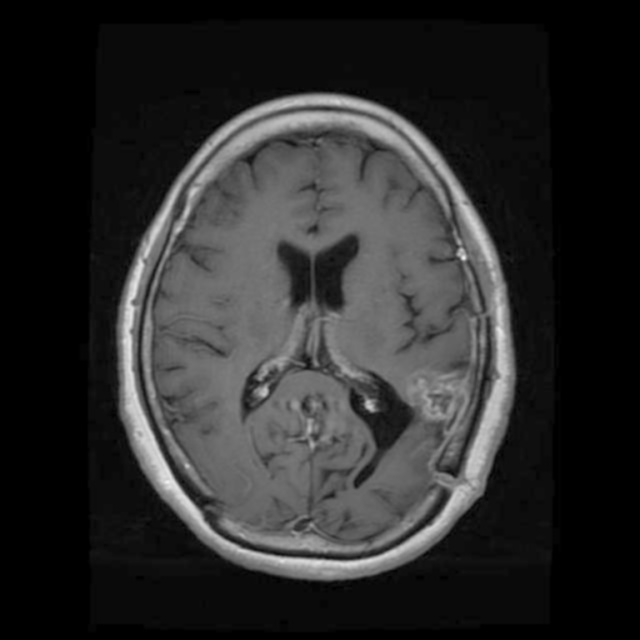pituitary tumor: (407, 368, 468, 420)
